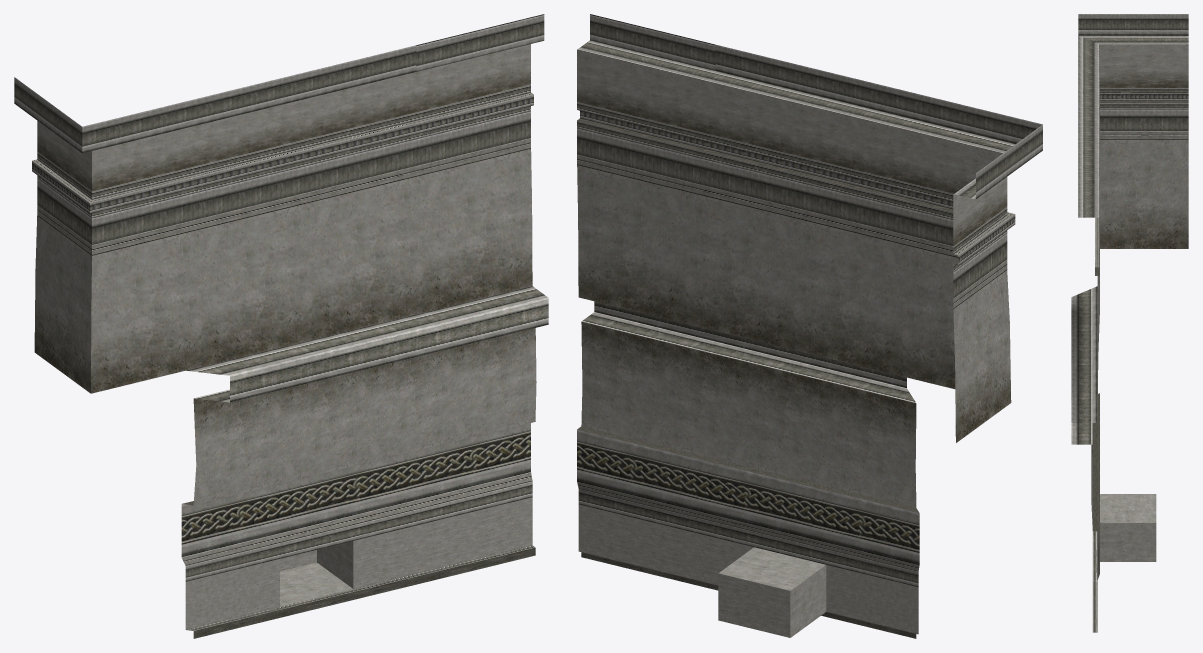
The model's file is DWARF_PALACE_GEAR_ROOM_WALL03B.fbx.
The picture shows the model from 3 angles, left to right: view 1: azimuth 30°, elevation 25°; view 2: azimuth 150°, elevation 25°; view 3: azimuth 270°, elevation 25°; orthographic projection. The views are drawn at different scales.
Parts seen in each view (by area): view 1: DWARF_PALACE_GEAR_ROOM_WALL03B; view 2: DWARF_PALACE_GEAR_ROOM_WALL03B; view 3: DWARF_PALACE_GEAR_ROOM_WALL03B.
Boxes of the visible parts, <box> form: DWARF_PALACE_GEAR_ROOM_WALL03B: <box>14,14,548,638</box>; DWARF_PALACE_GEAR_ROOM_WALL03B: <box>577,14,1042,638</box>; DWARF_PALACE_GEAR_ROOM_WALL03B: <box>1071,14,1188,632</box>.
Size of the model in its own units: 180904 by 205001 by 49241.
7 materials, 7 textured.
